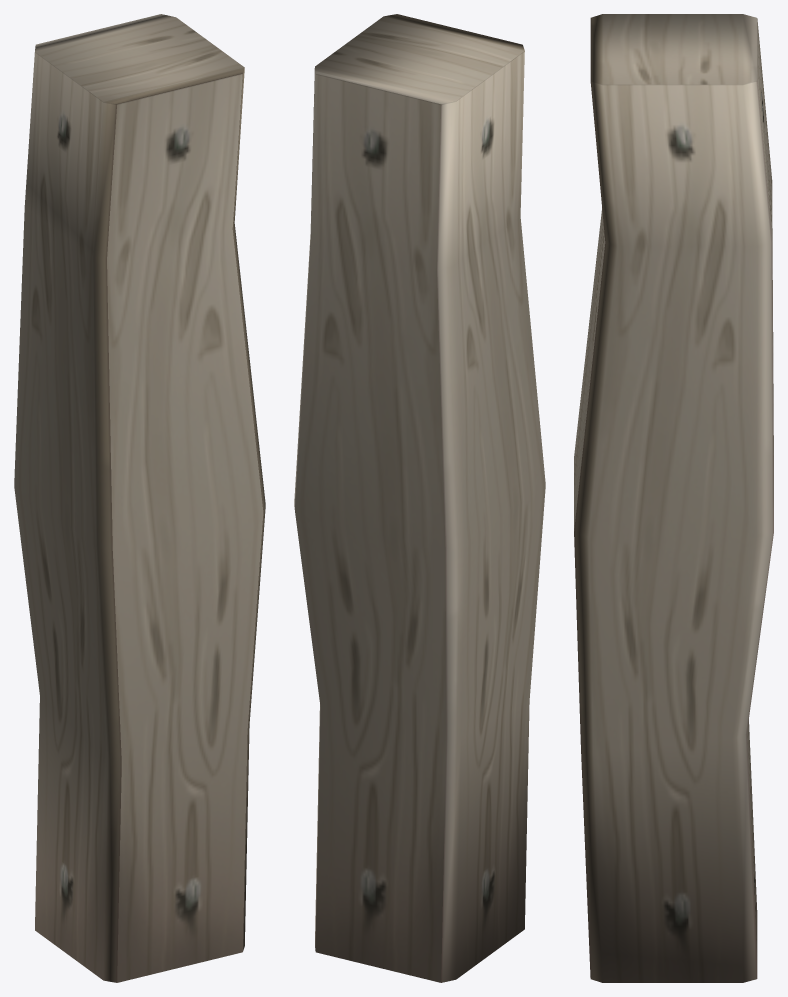
The model's file is barn_pillar2.fbx.
The picture shows the model from 3 angles, left to right: view 1: azimuth 30°, elevation 25°; view 2: azimuth 150°, elevation 25°; view 3: azimuth 270°, elevation 25°; orthographic projection. The views are drawn at different scales.
Parts seen in each view (by area): view 1: barn_pillar2; view 2: barn_pillar2; view 3: barn_pillar2.
Part boxes in pixels (x1,y1,x2,y2): barn_pillar2: [14, 14, 265, 982]; barn_pillar2: [294, 14, 545, 982]; barn_pillar2: [574, 14, 773, 982].
Size of the model in its own units: 2.33 by 11.53 by 2.33.
